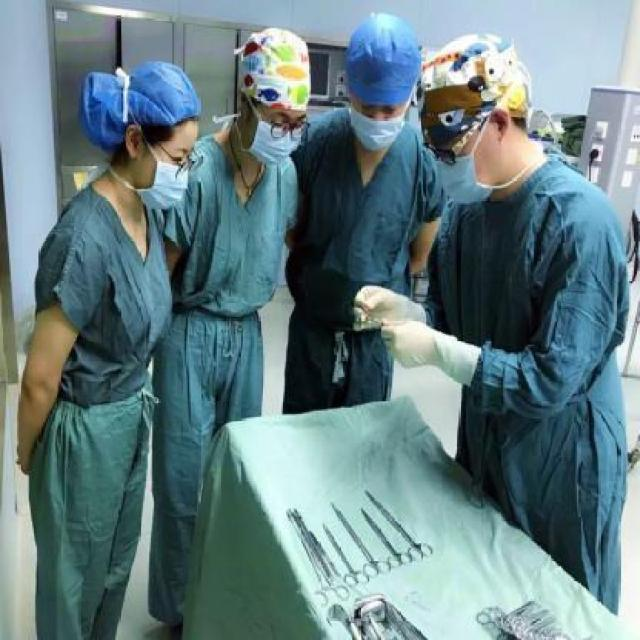face_mask: (125, 124, 203, 224), (437, 123, 503, 215), (244, 96, 310, 172), (350, 95, 404, 148)
glasses: (265, 113, 313, 145), (172, 148, 206, 182)
hand_glove: (349, 282, 408, 332), (382, 317, 431, 371)
person: (421, 26, 640, 595), (32, 64, 189, 640), (180, 0, 328, 451), (308, 17, 430, 394)
